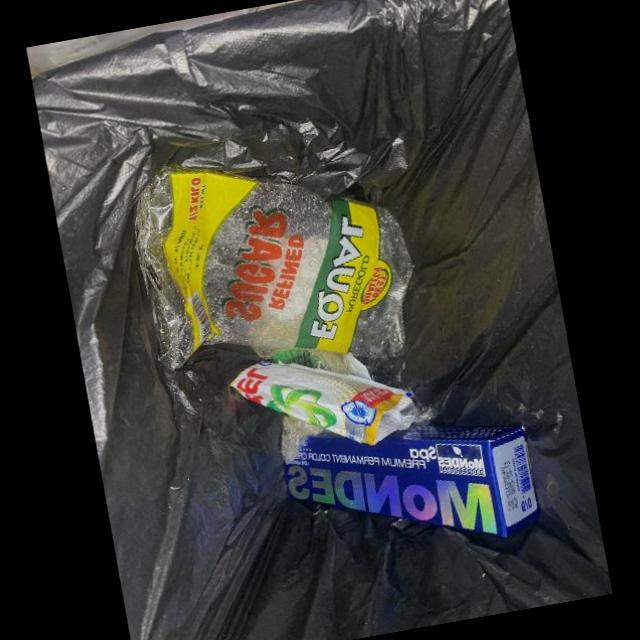bao_bi_thuc_pham: (137, 171, 414, 369)
carton: (283, 426, 541, 537)
goi_nhua_nho: (229, 362, 418, 445)
